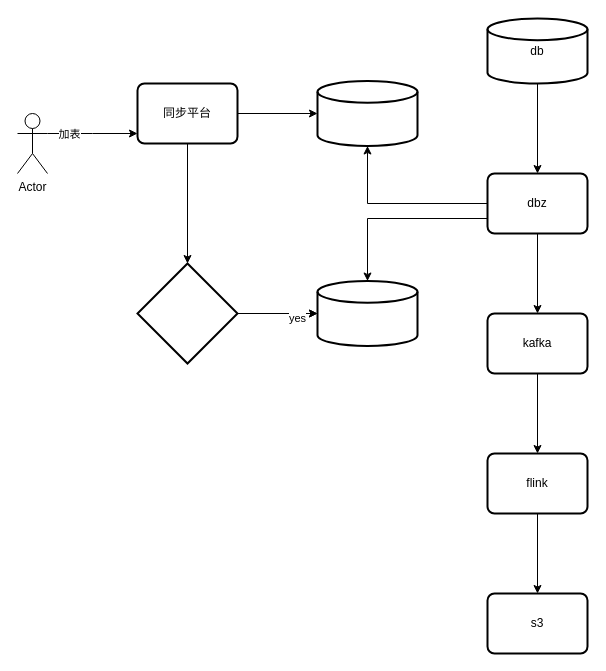
Image size: 606x671. Some labels were removed from this diagram. The box of each missing label's shape, as (x1, y1, x2, y2) in pixels:
export history: (136, 262, 238, 364)
job config topic: (316, 80, 418, 146)
signal topic: (316, 280, 418, 346)
